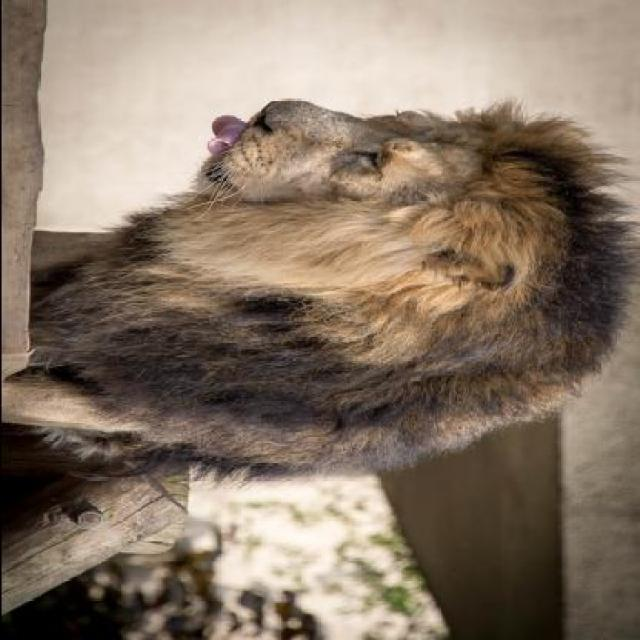Lion: (1, 88, 638, 482)
